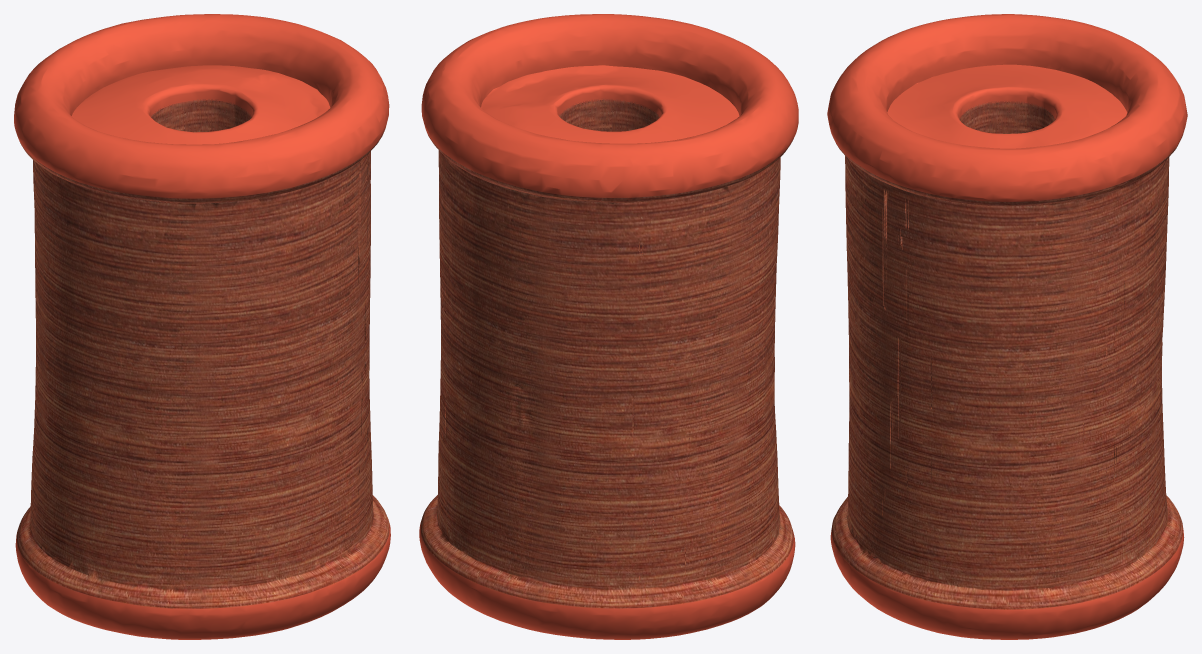
Rendered from copper-silk-fast.glb.
3 views of the same model, side by side, from view 1: azimuth 30°, elevation 25°; view 2: azimuth 150°, elevation 25°; view 3: azimuth 270°, elevation 25° (orthographic).
Visible parts, largest first — view 1: world; view 2: world; view 3: world.
Part boxes in pixels (x1,y1,x2,y2): world: [14, 14, 390, 639]; world: [419, 14, 798, 639]; world: [827, 14, 1187, 639].
Size of the model in its own units: 0.7054 by 1 by 0.6702.
Materials: 2 (1 with a texture image).
